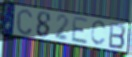2: (54, 14, 70, 43)
8: (36, 11, 52, 39)
B: (108, 21, 127, 50)
C: (15, 8, 34, 37), (90, 20, 108, 47)
E: (71, 16, 90, 46)
